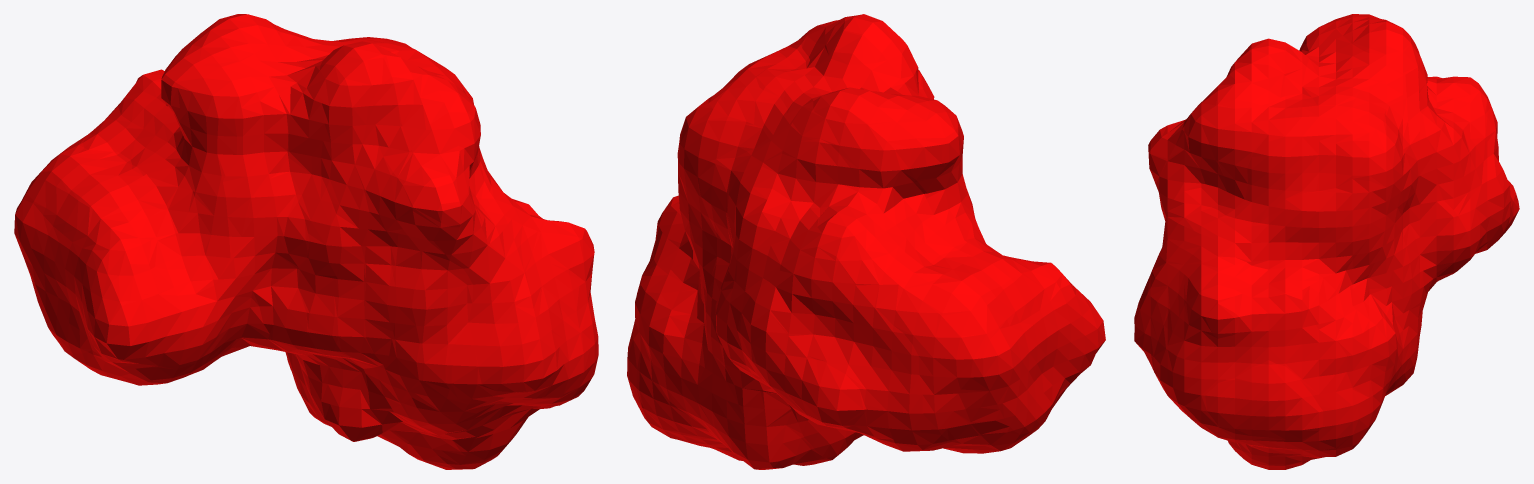
The model's file is yjiA_coarse.dae.
3 renders of one model, left to right at view 1: azimuth 30°, elevation 25°; view 2: azimuth 150°, elevation 25°; view 3: azimuth 270°, elevation 25°, orthographic. The views are drawn at different scales.
Visible parts, largest first — view 1: yjiA; view 2: yjiA; view 3: yjiA.
Boxes of the visible parts, <box> form: yjiA: <box>14,14,598,469</box>; yjiA: <box>627,14,1105,469</box>; yjiA: <box>1134,14,1519,469</box>.
Bounding box in the file's own units: 63.33 × 59.2 × 54.14.
